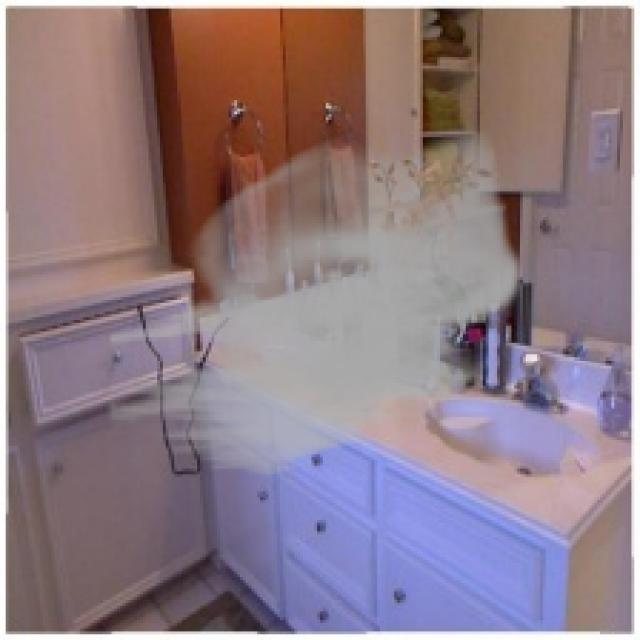smoke: (106, 129, 523, 480)
